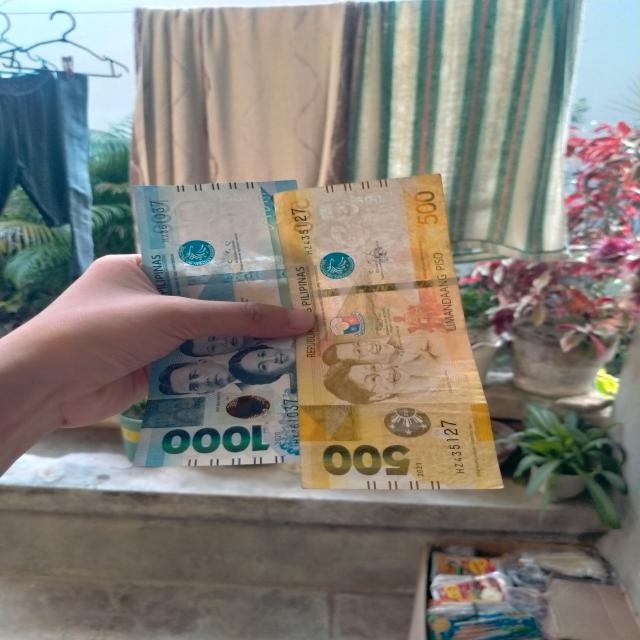concealed_value: (299, 404, 361, 442), (144, 396, 208, 428)
optically_variable_device: (372, 403, 440, 443), (210, 392, 282, 427)
security_thread: (283, 276, 463, 298), (143, 269, 295, 285)
see_through_mark: (254, 191, 279, 235)
value: (309, 437, 414, 479), (160, 419, 270, 458)
value_watermark: (212, 190, 257, 204), (354, 195, 384, 206)
watermark: (161, 193, 260, 244), (309, 198, 406, 250)
